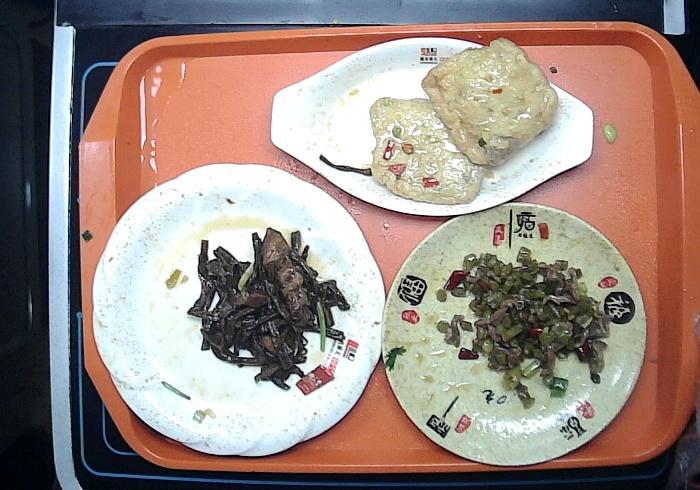NLDX-Bai_Zhe_Yuan_Pan: (87, 156, 391, 462)
NLDX-Fu_Zi_Yuan_Pan: (375, 198, 651, 470)
NLDX-Yu_Pan: (264, 31, 601, 225)
